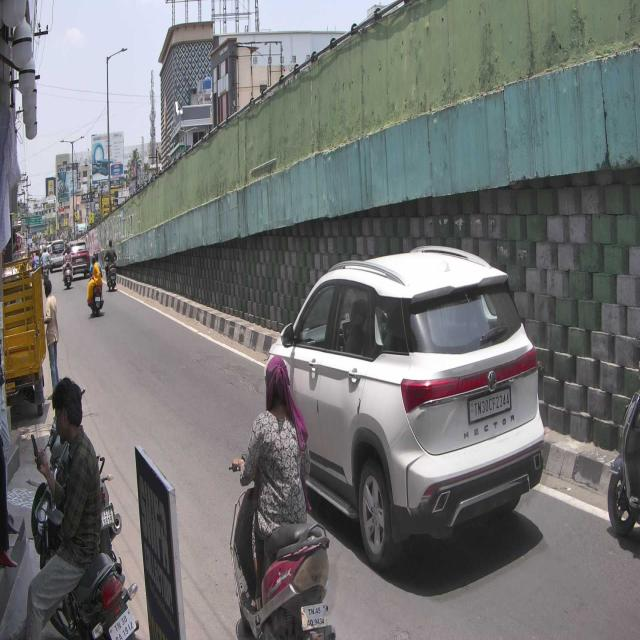single_rider: (228, 354, 335, 640)
